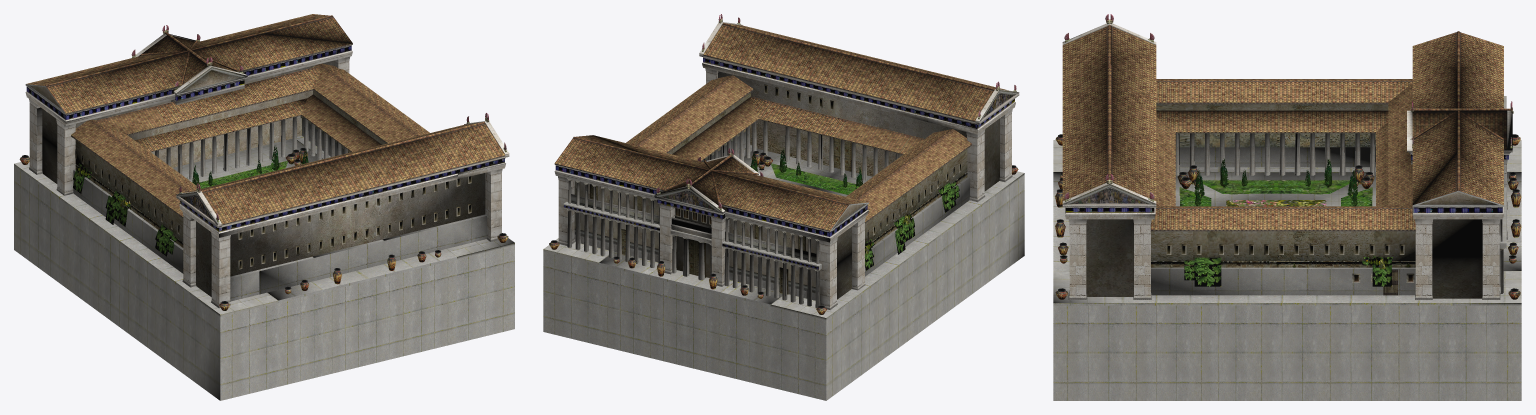
The model's file is mace_wonder.glb.
3 views of the same model, side by side, from view 1: azimuth 30°, elevation 25°; view 2: azimuth 150°, elevation 25°; view 3: azimuth 270°, elevation 25° (orthographic). The views are drawn at different scales.
Visible parts, largest first — view 1: mace_wonder_part0, mace_wonder_part5, mace_wonder_part4, mace_wonder_part1, mace_wonder_part3, mace_wonder_part6, mace_wonder_part7; view 2: mace_wonder_part0, mace_wonder_part5, mace_wonder_part1, mace_wonder_part4, mace_wonder_part3, mace_wonder_part6, mace_wonder_part7, mace_wonder_part8, mace_wonder_part2; view 3: mace_wonder_part0, mace_wonder_part5, mace_wonder_part3, mace_wonder_part4, mace_wonder_part1, mace_wonder_part7, mace_wonder_part6, mace_wonder_part8.
Boxes of the visible parts, x1,y1,x2,y2 form: mace_wonder_part0: (25, 14, 509, 308); mace_wonder_part5: (14, 135, 514, 400); mace_wonder_part4: (73, 119, 486, 301); mace_wonder_part1: (19, 25, 508, 310); mace_wonder_part3: (75, 90, 386, 247); mace_wonder_part6: (73, 163, 176, 256); mace_wonder_part7: (196, 161, 287, 188); mace_wonder_part0: (554, 22, 1019, 309); mace_wonder_part5: (543, 145, 1024, 400); mace_wonder_part1: (549, 14, 1018, 314); mace_wonder_part4: (563, 131, 969, 276); mace_wonder_part3: (668, 92, 967, 244); mace_wonder_part6: (865, 181, 959, 270); mace_wonder_part7: (750, 163, 858, 194); mace_wonder_part8: (750, 149, 862, 188); mace_wonder_part2: (567, 178, 820, 271); mace_wonder_part0: (1062, 23, 1512, 299); mace_wonder_part5: (1053, 140, 1521, 400); mace_wonder_part3: (1151, 104, 1415, 267); mace_wonder_part4: (1151, 96, 1506, 295); mace_wonder_part1: (1055, 14, 1521, 299); mace_wonder_part7: (1179, 180, 1372, 206); mace_wonder_part6: (1184, 200, 1392, 286); mace_wonder_part8: (1194, 158, 1357, 206).
Size of the model in its own units: 5.36 by 3.45 by 6.5.
9 materials, 9 textured.
